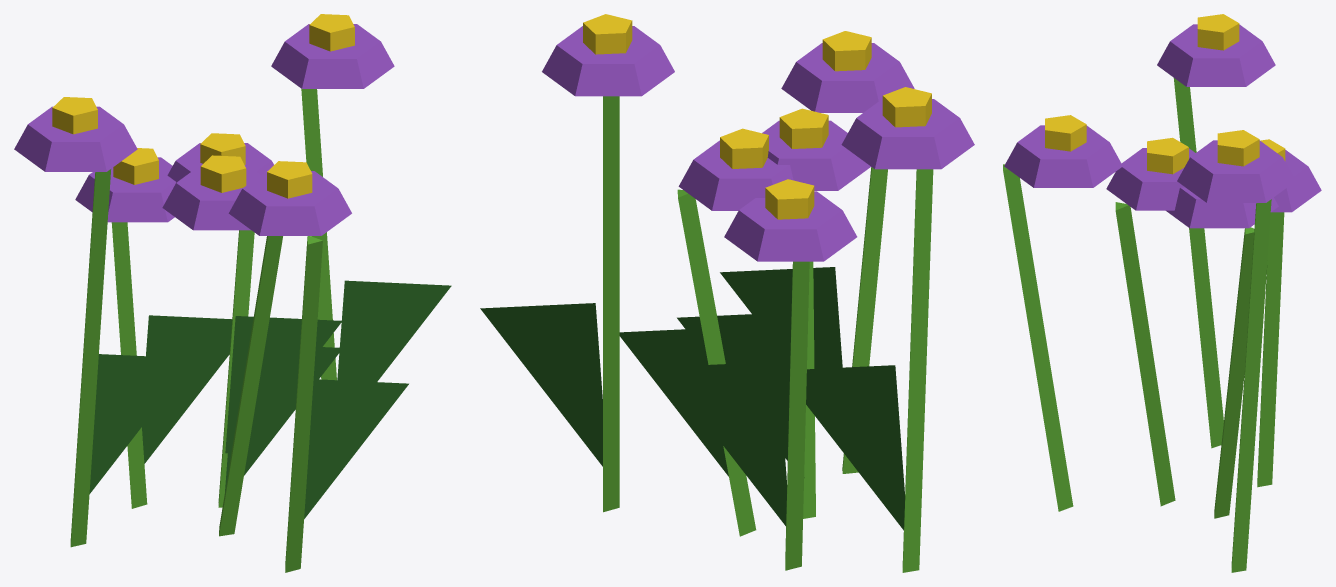
Rendered from flower_patch_3.glb.
3 renders of one model, left to right at view 1: azimuth 30°, elevation 25°; view 2: azimuth 150°, elevation 25°; view 3: azimuth 270°, elevation 25°, orthographic. The views are drawn at different scales.
Parts seen in each view (by area): view 1: flower_patch_3; view 2: flower_patch_3; view 3: flower_patch_3.
Boxes of the visible parts, x1,y1,x2,y2 form: flower_patch_3: (14, 14, 451, 572); flower_patch_3: (480, 14, 974, 572); flower_patch_3: (1003, 14, 1321, 572).
Bounding box in the file's own units: 0.7272 × 0.7208 × 0.4819.
